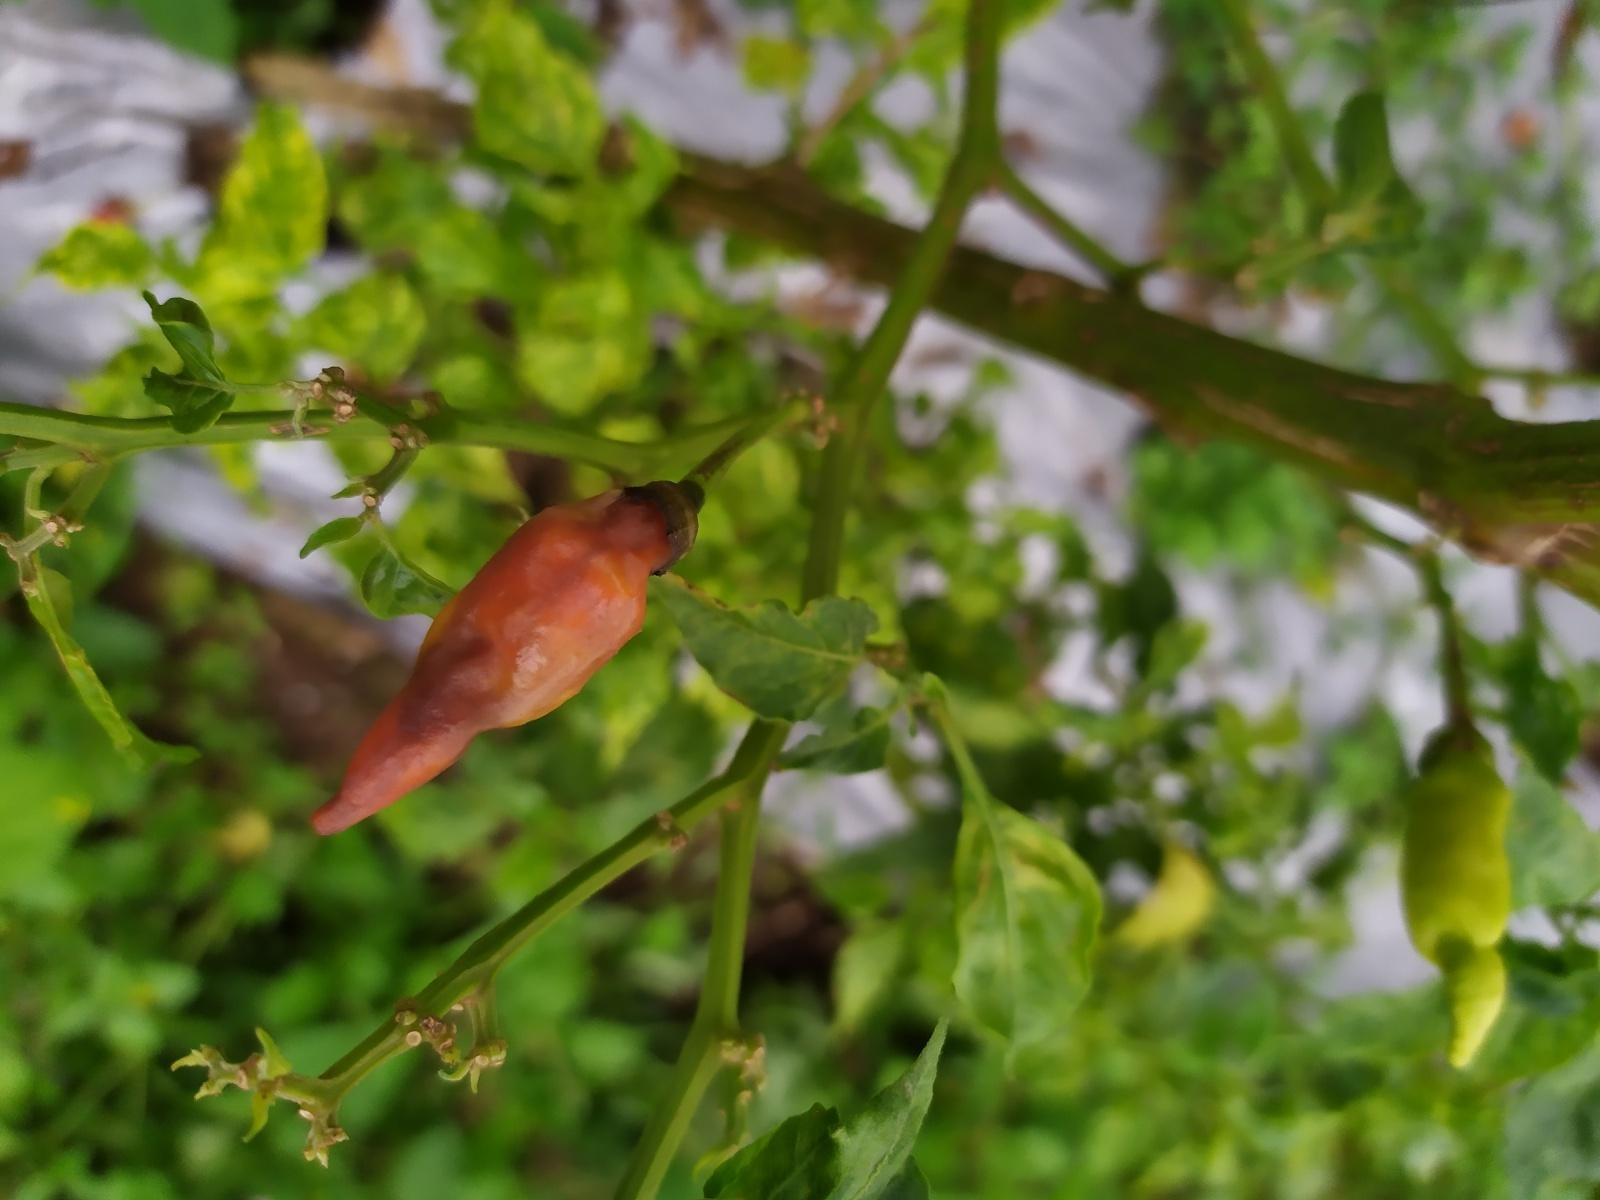cabai_normal: (1398, 744, 1517, 1071)
lalat_buah: (306, 479, 698, 839)
